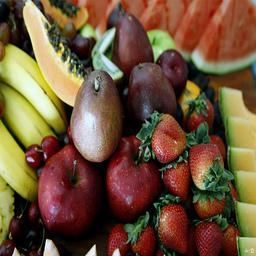apple: (34, 142, 101, 238), (108, 139, 164, 225)
